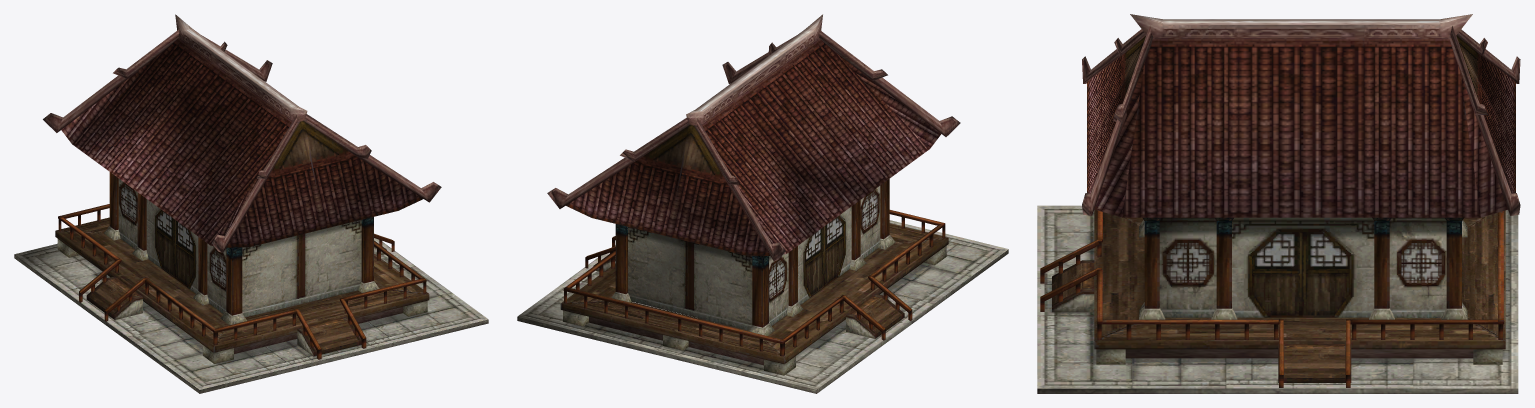
The model's file is a1-008-house5_lod_01.glb.
The picture shows the model from 3 angles, left to right: view 1: azimuth 30°, elevation 25°; view 2: azimuth 150°, elevation 25°; view 3: azimuth 270°, elevation 25°; orthographic projection. The views are drawn at different scales.
Parts seen in each view (by area): view 1: a1-008-house5-1, a1-008-house5-03, a1-008-house5-02; view 2: a1-008-house5-1, a1-008-house5-03, a1-008-house5-02; view 3: a1-008-house5-1, a1-008-house5-03, a1-008-house5-02.
Boxes of the visible parts, x1,y1,x2,y2 form: a1-008-house5-1: (14, 14, 488, 393); a1-008-house5-03: (55, 172, 488, 389); a1-008-house5-02: (118, 179, 361, 317); a1-008-house5-1: (517, 14, 1008, 393); a1-008-house5-03: (559, 179, 1008, 375); a1-008-house5-02: (628, 186, 880, 330); a1-008-house5-1: (1037, 14, 1520, 393); a1-008-house5-03: (1037, 205, 1505, 388); a1-008-house5-02: (1159, 217, 1446, 317).
Size of the model in its own units: 14.74 by 10.82 by 16.45.
3 materials, 3 textured.
